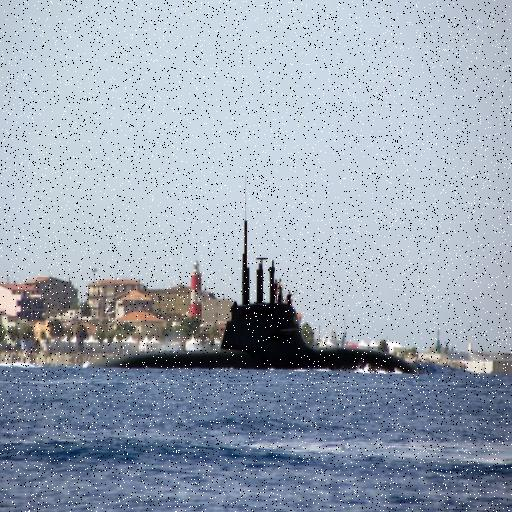submarine: (80, 221, 447, 369)
